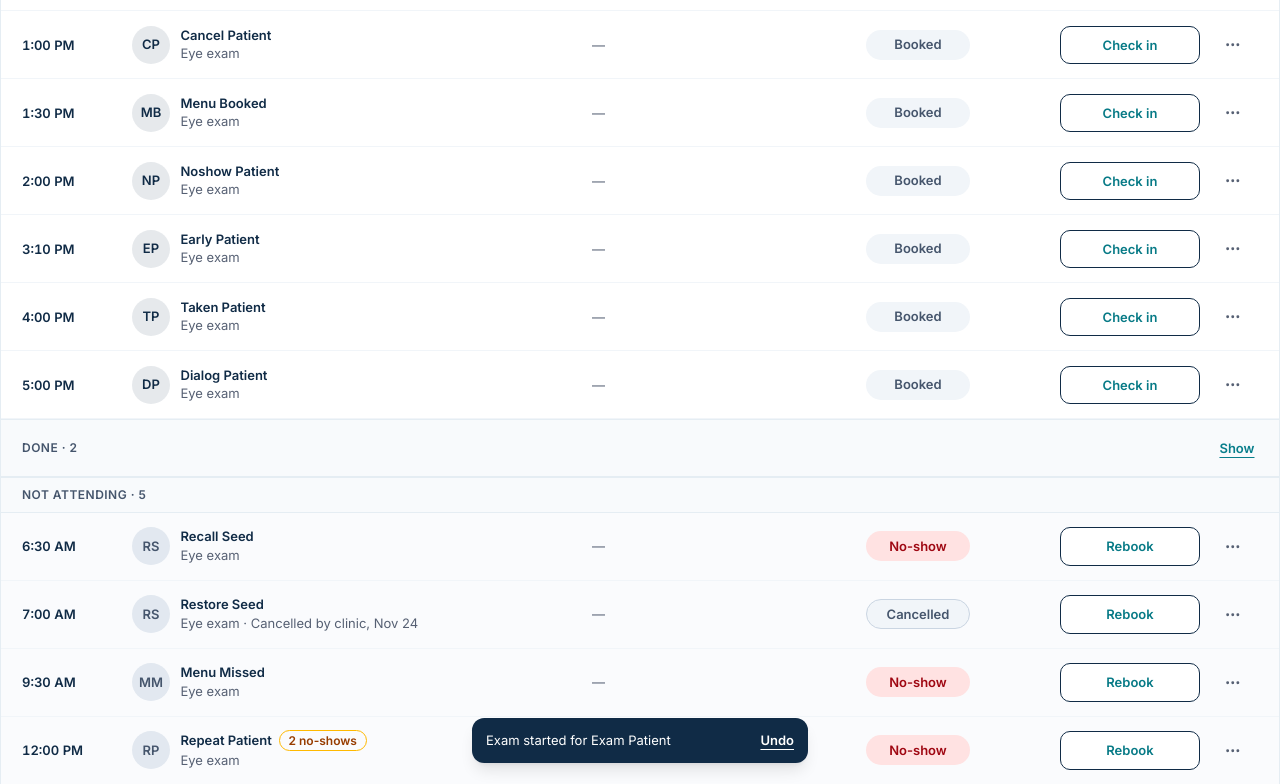
Test case: Appointments (staff) › cancelling asks why, then moves the visit under Not attending with who cancelled
This screenshot has width=1280, height=784.
(page scrolled)
Click the button named "More actions for Dialog Patient" at (1233, 385), box [1214, 366, 1252, 404]
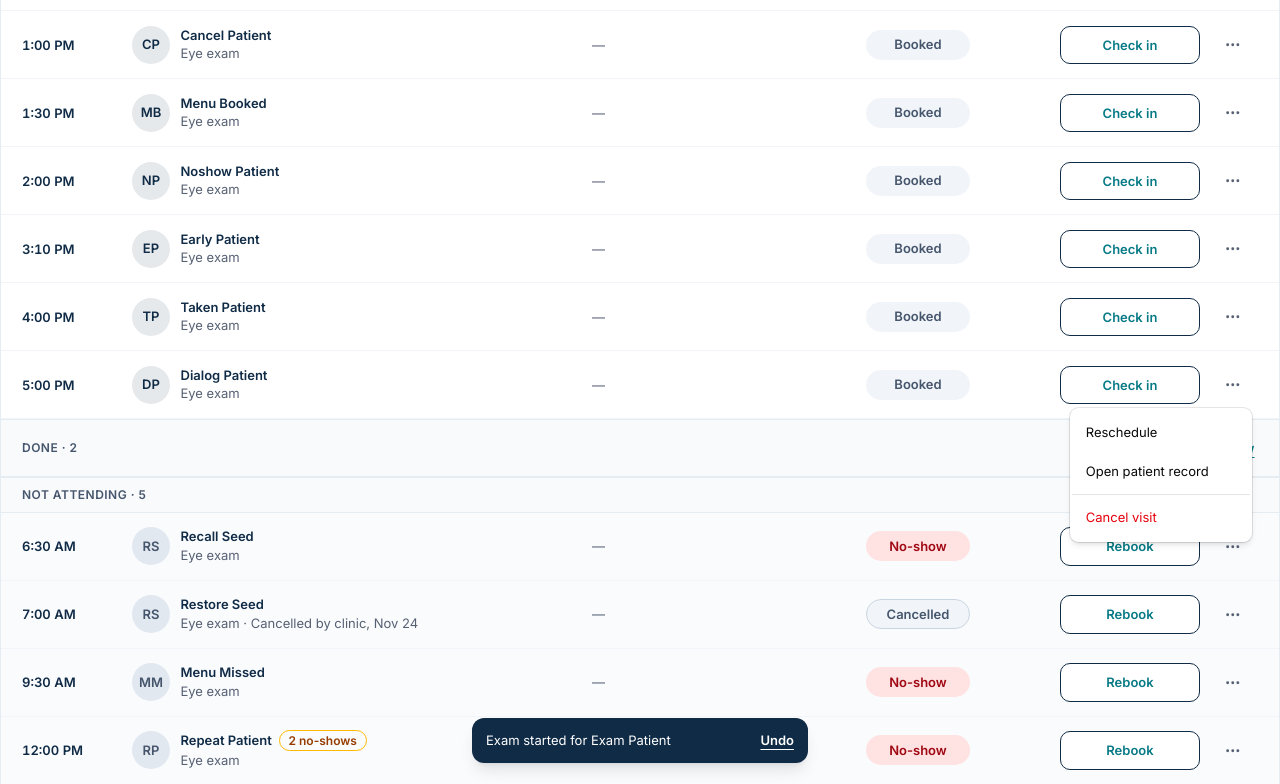
Click the menu item "Cancel visit" at (1121, 517), box [1086, 509, 1157, 525]
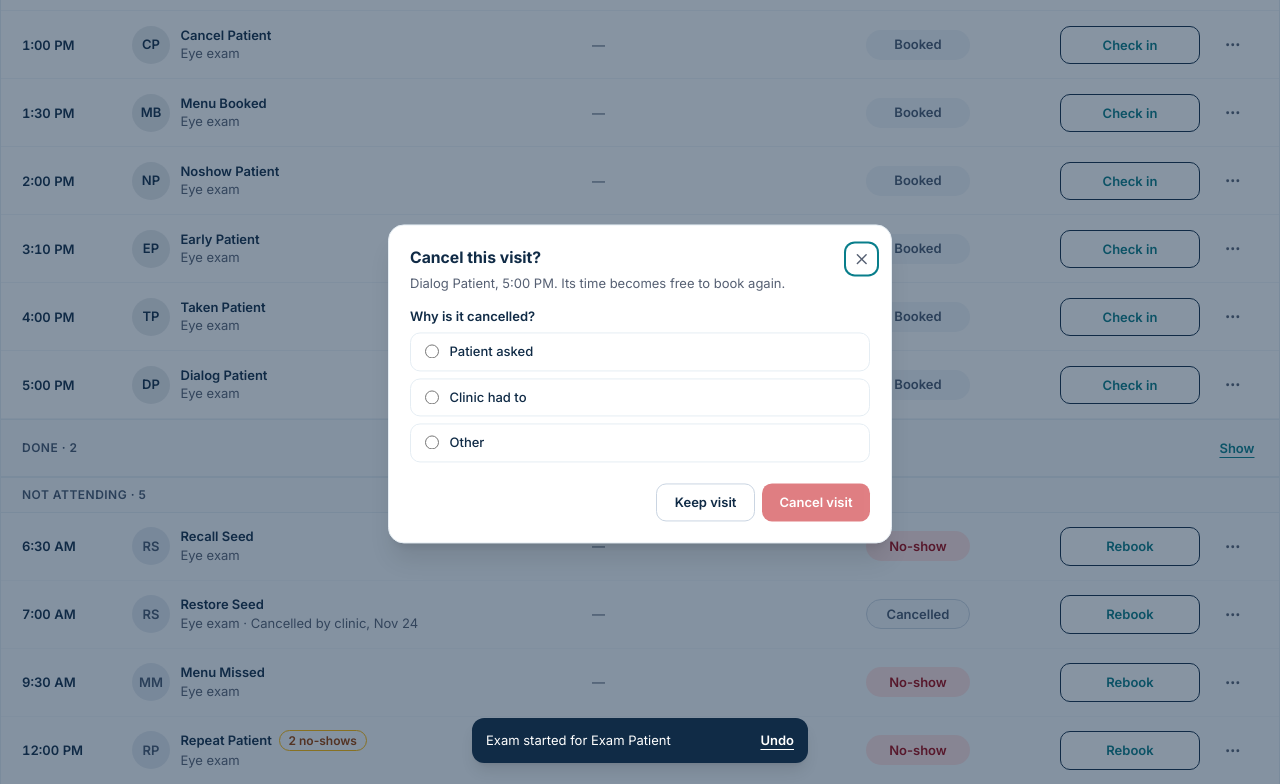
Result: the radio button labelled "Patient asked" is shown
Result: the radio button labelled "Clinic had to" is shown at [425, 390, 439, 404]
Result: the radio button labelled "Other" is shown at [425, 436, 439, 450]
Click the radio button labelled "Patient asked" at (432, 352), box [425, 345, 439, 359]
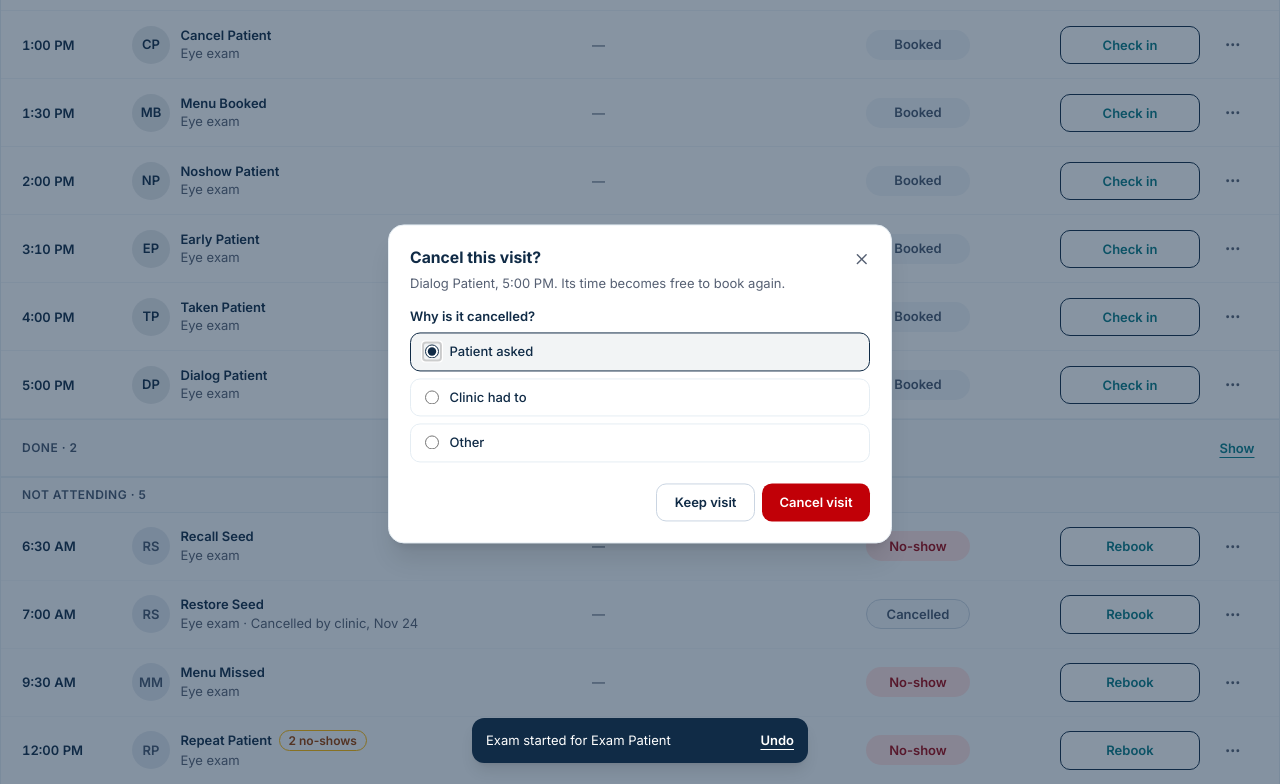
Click the button "Cancel visit" at (816, 502), box [762, 483, 870, 522]
(page scrolled)
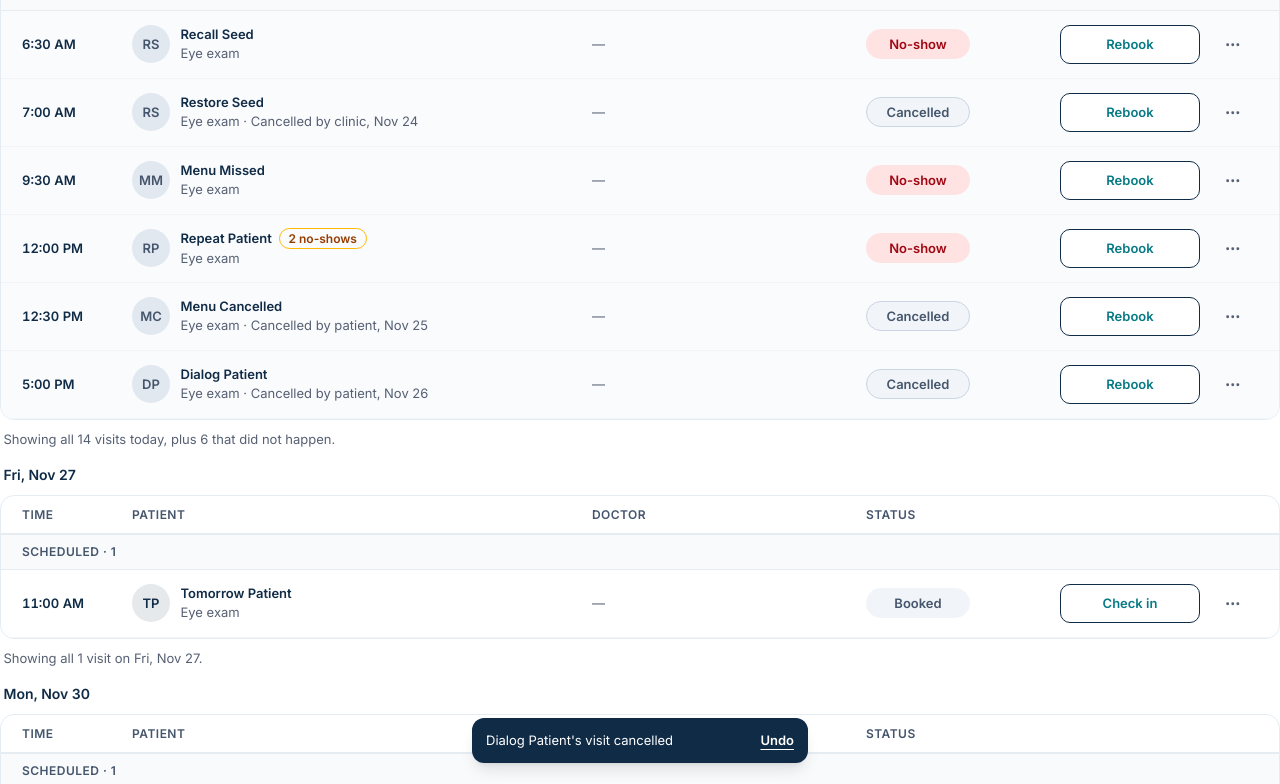
Result: the dialog is gone
Result: the text "Cancelled" in the row of "5:00 PM" is shown at [886, 376, 949, 392]
Result: the text "Eye exam · Cancelled by patient, Nov 26" is shown at [180, 384, 428, 403]
